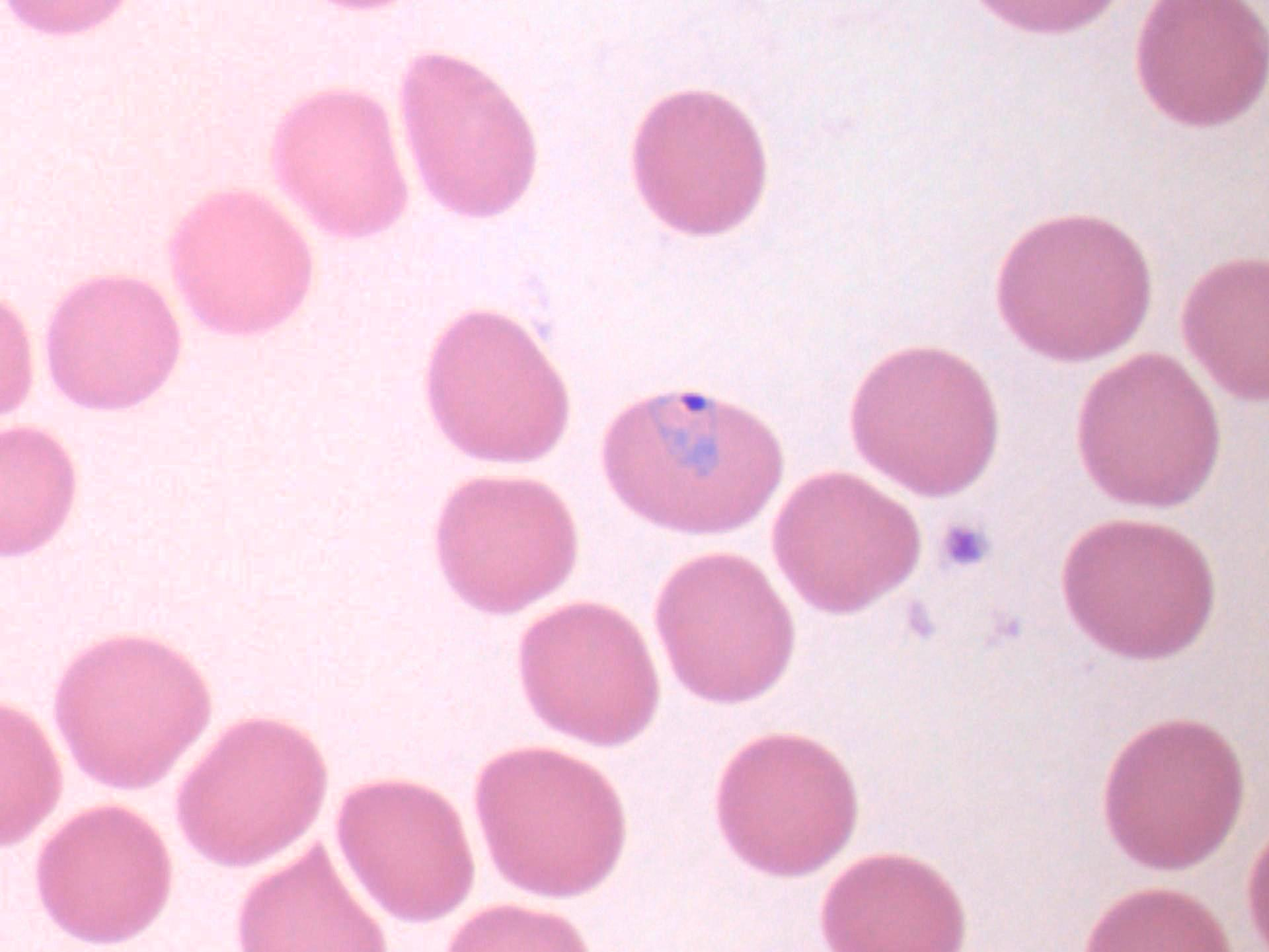Infected: (484, 416, 666, 564)
Uninfected: (730, 735, 871, 895), (1062, 162, 1214, 310), (118, 593, 272, 737), (350, 329, 492, 485), (644, 55, 794, 201), (701, 490, 845, 640), (270, 459, 417, 604), (50, 447, 190, 597), (56, 291, 206, 429), (26, 81, 165, 228), (499, 715, 638, 862), (944, 88, 1088, 227), (411, 75, 553, 215), (475, 250, 613, 394), (611, 207, 750, 346), (861, 719, 995, 861), (958, 620, 1096, 757), (796, 34, 932, 172), (692, 340, 833, 472), (1098, 11, 1231, 141), (1091, 545, 1219, 673), (1, 826, 129, 951), (887, 3, 1027, 102), (307, 0, 444, 91), (2, 555, 87, 688), (1198, 394, 1268, 519)
